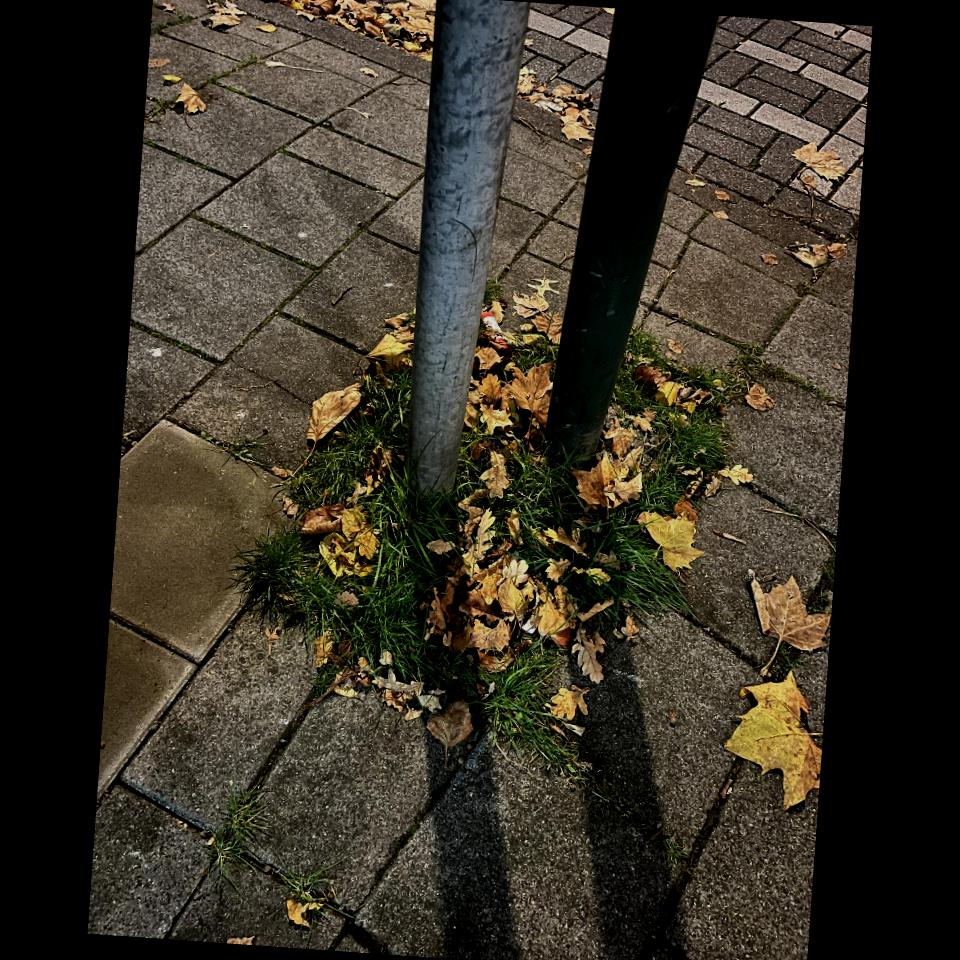weed: (244, 468, 575, 775), (498, 417, 685, 624), (272, 368, 412, 518), (639, 415, 732, 515), (200, 781, 269, 877), (605, 328, 661, 409), (503, 330, 554, 369)
